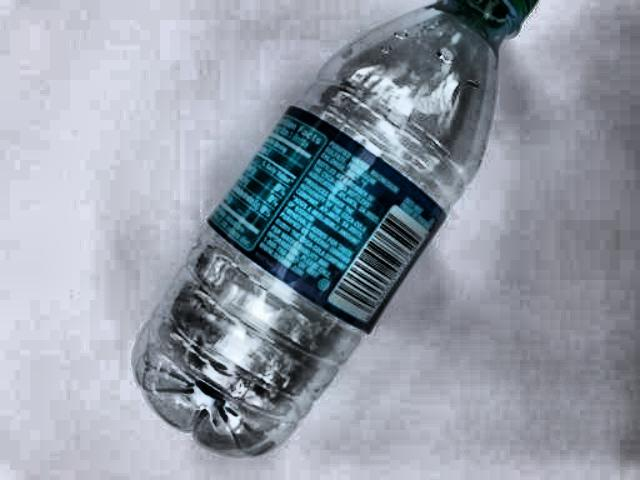Bottles: (21, 10, 550, 461)
